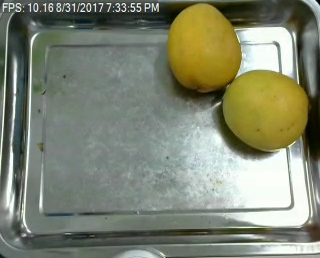Mango: (223, 67, 308, 151), (168, 3, 241, 90)
